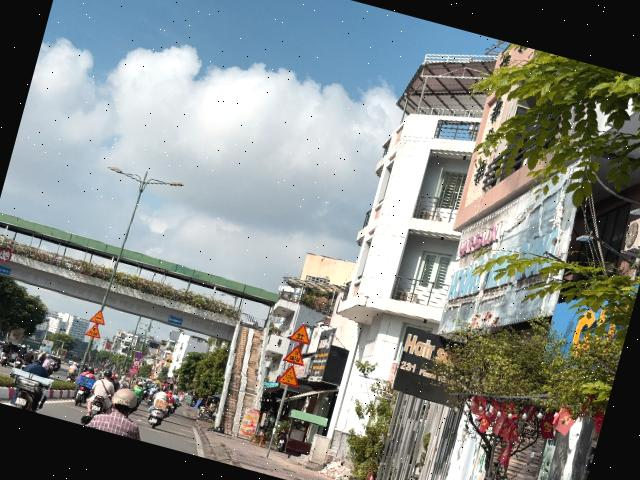chieu-cao-tinh-khong-thuc-te: (276, 361, 304, 388)
di-cham: (282, 342, 310, 366), (84, 321, 104, 339)
han-che-chieu-cao: (0, 246, 13, 263)
noi-giao-nhau-voi-duong-sat-co-rao-chan: (288, 320, 315, 345), (88, 307, 108, 325)
